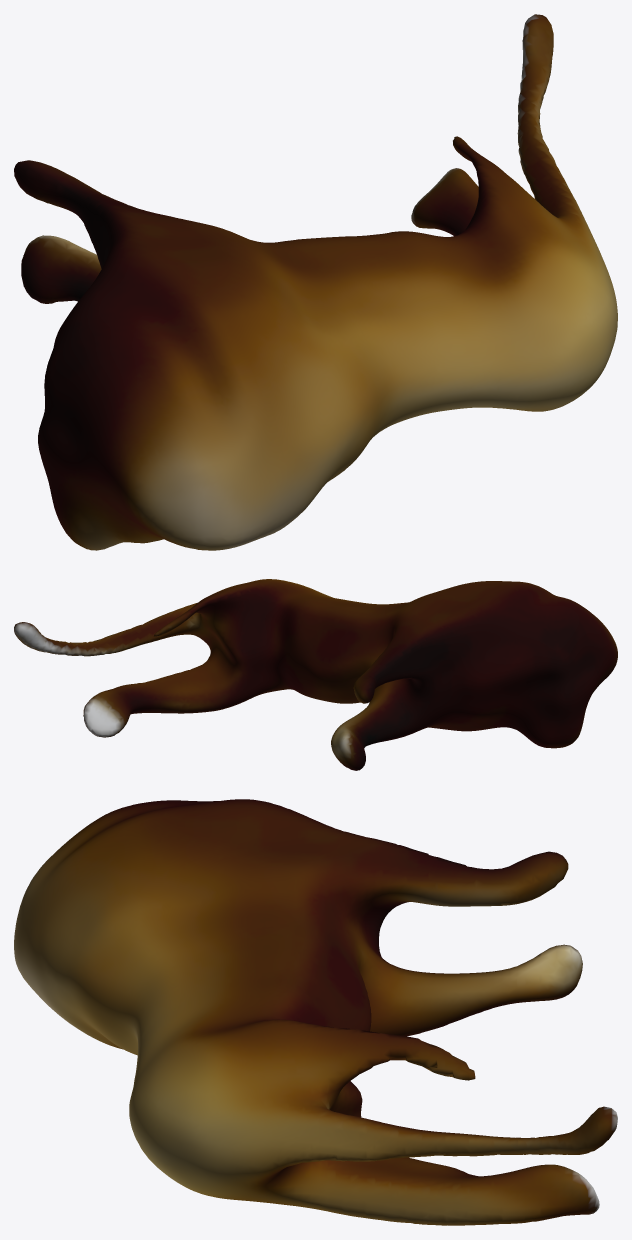
The model's file is lion.glb.
The picture shows the model from 3 angles, top to bottom: view 1: azimuth 30°, elevation 25°; view 2: azimuth 150°, elevation 25°; view 3: azimuth 270°, elevation 25°; orthographic projection. The views are drawn at different scales.
Size of the model in its own units: 0.9989 by 0.3238 by 0.7672.
